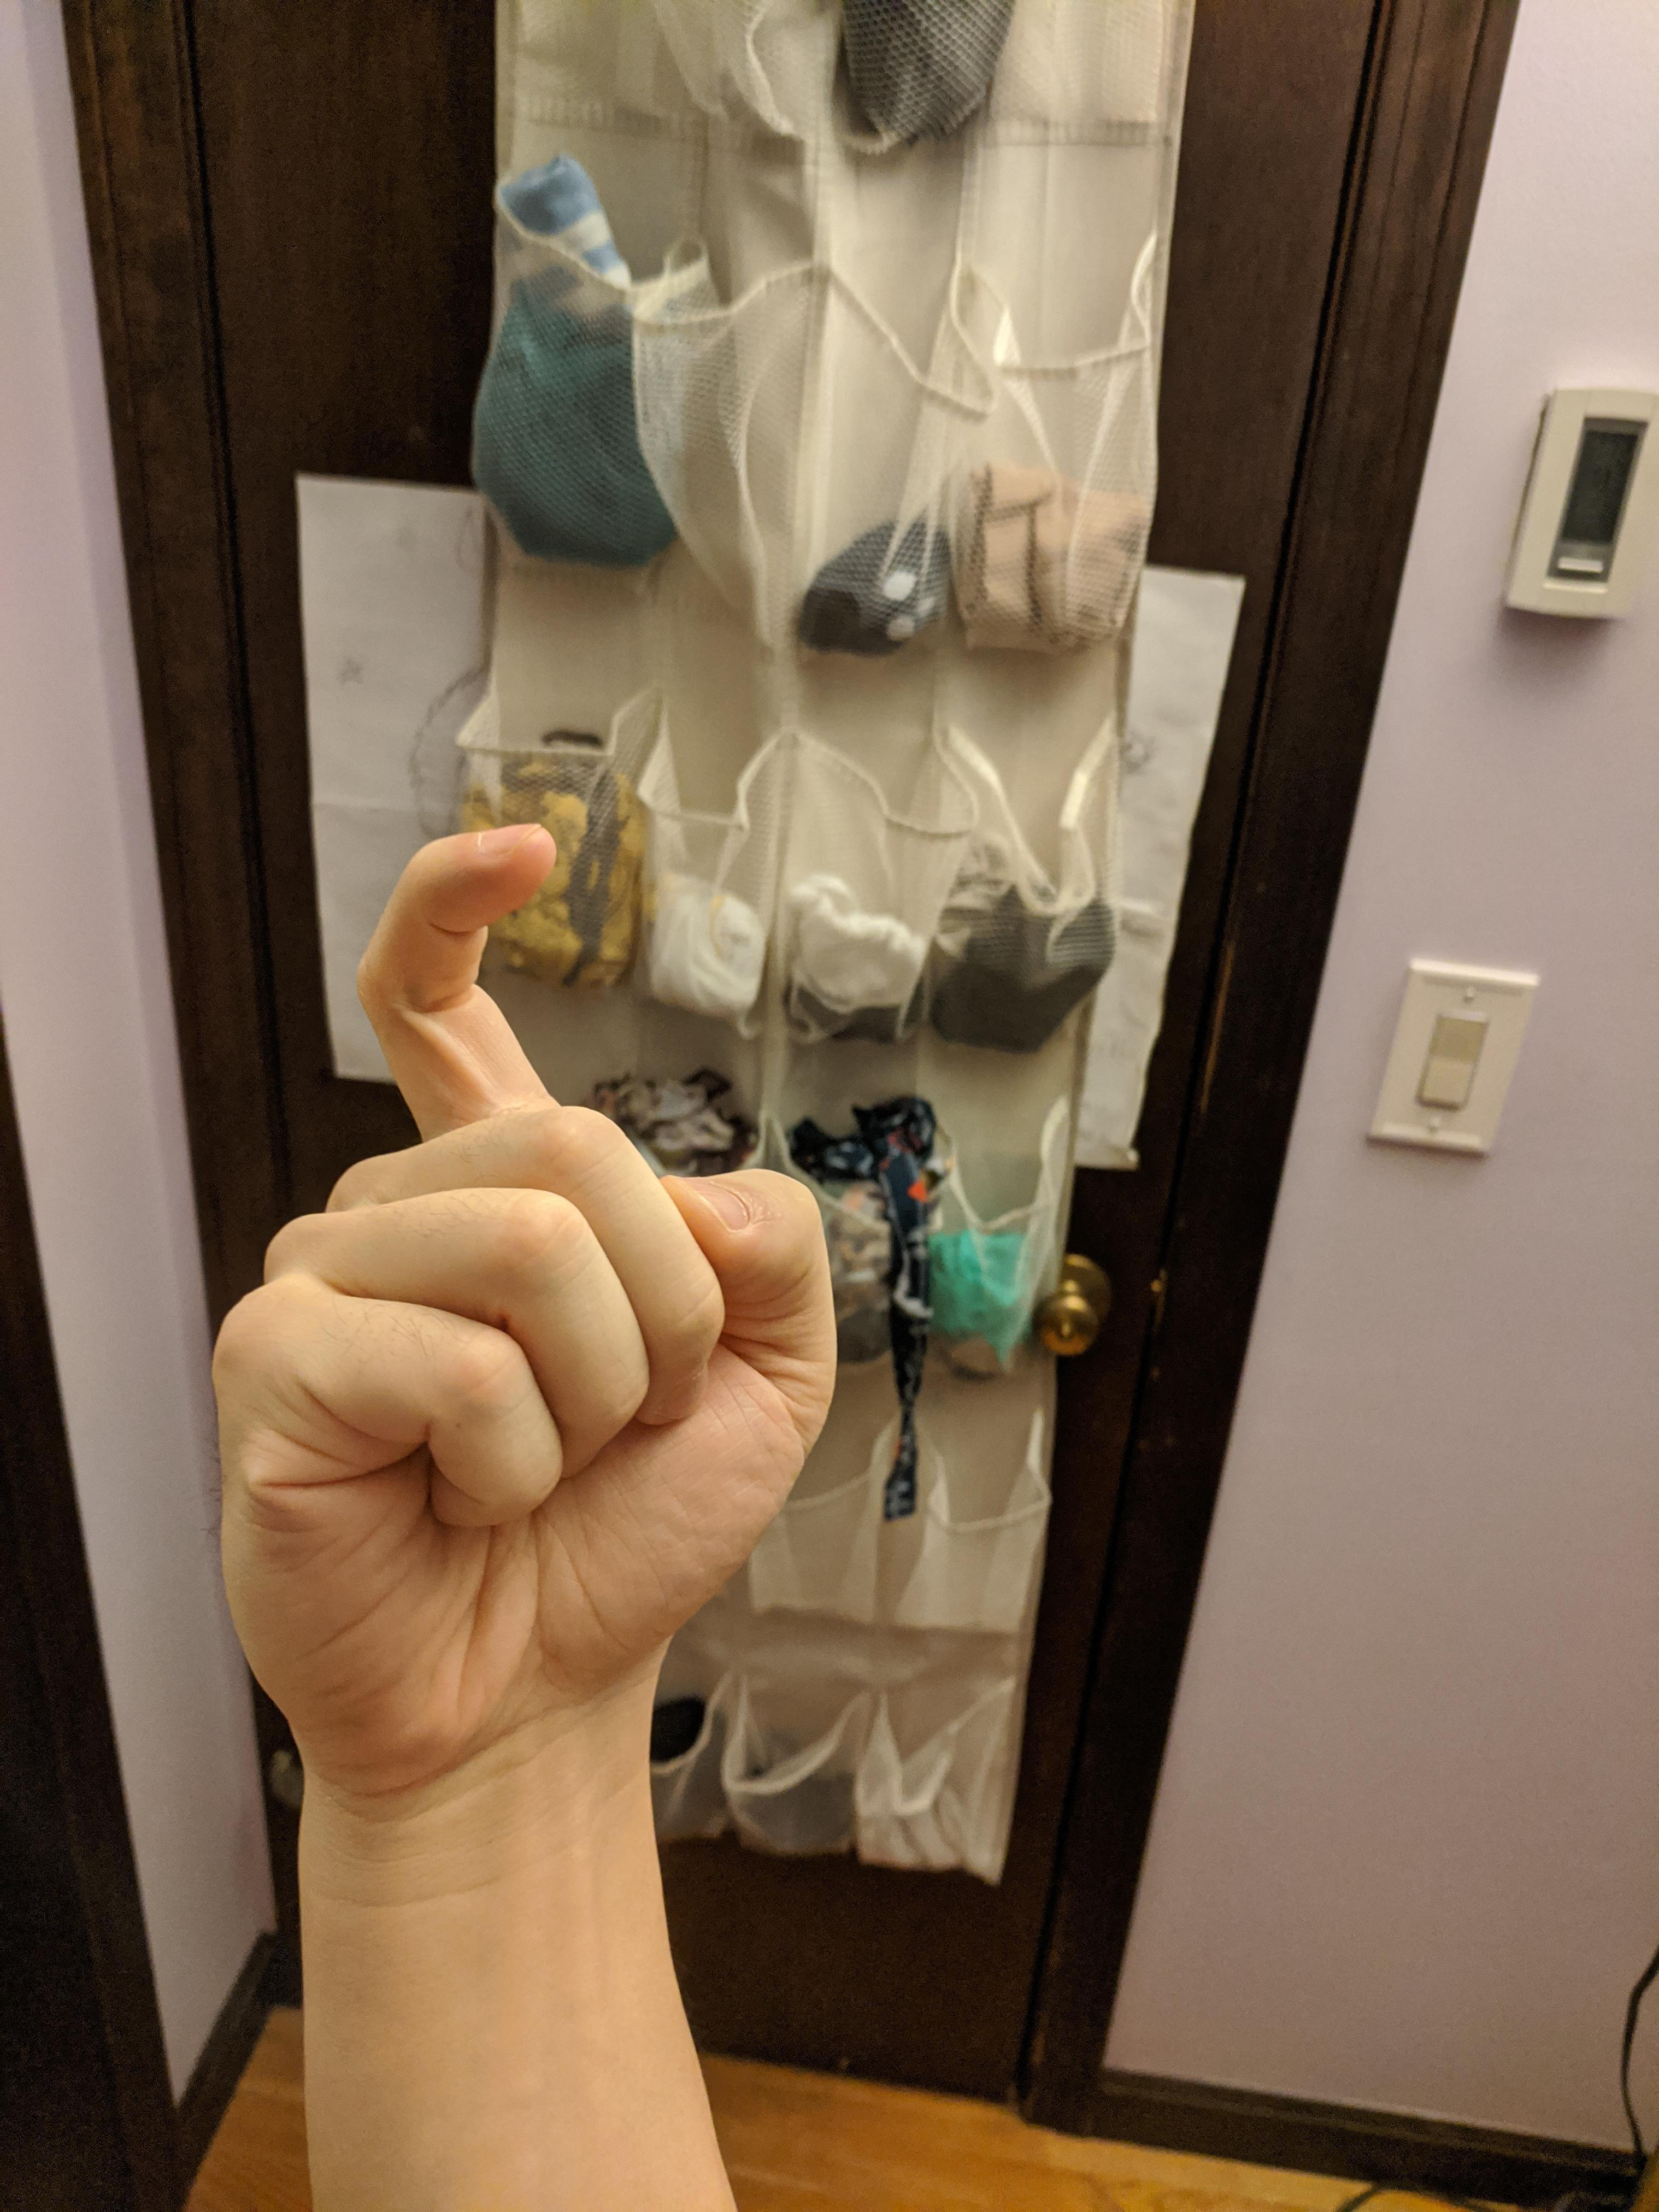X: (197, 807, 854, 1781)
